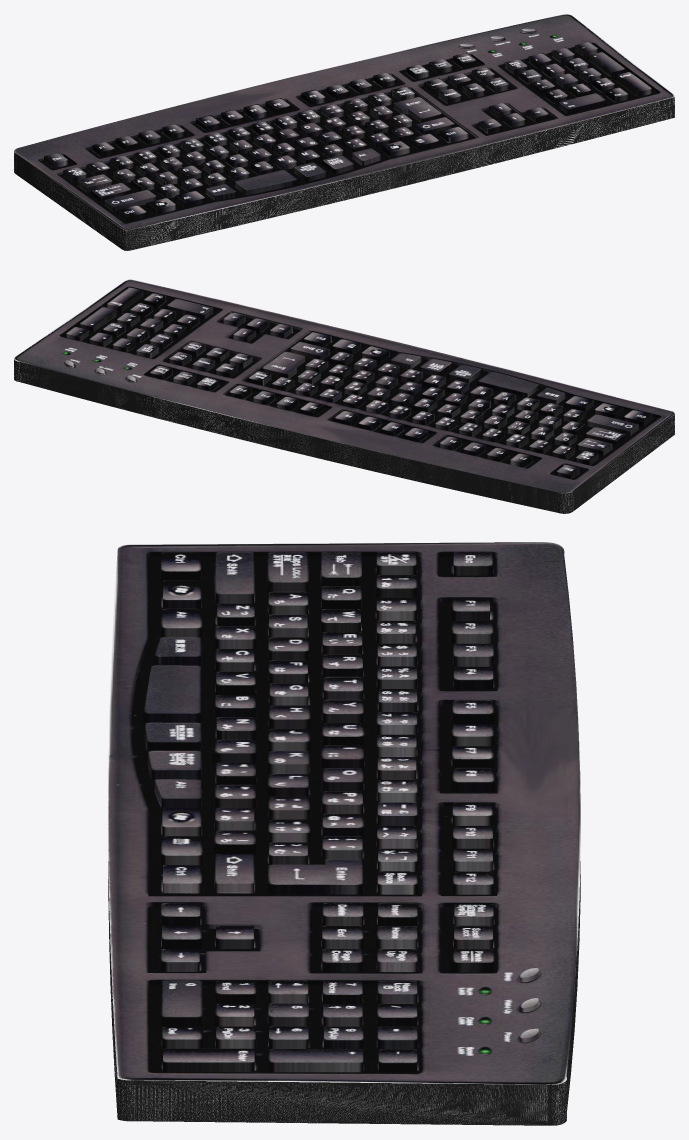
The picture shows the model from 3 angles, top to bottom: view 1: azimuth 30°, elevation 25°; view 2: azimuth 150°, elevation 25°; view 3: azimuth 270°, elevation 25°; orthographic projection. The views are drawn at different scales.
Parts seen in each view (by area): view 1: SketchUp (×26); view 2: SketchUp (×22); view 3: SketchUp (×119).
Part boxes in pixels (left/top/right/bottom): SketchUp (×26): left=14, top=14, right=674, bottom=250; SketchUp (×22): left=14, top=279, right=674, bottom=513; SketchUp (×119): left=108, top=542, right=580, bottom=1125.
Bounding box in the file's own units: 24.04 × 8.85 × 0.9576.
Materials: 2 (1 with a texture image).
